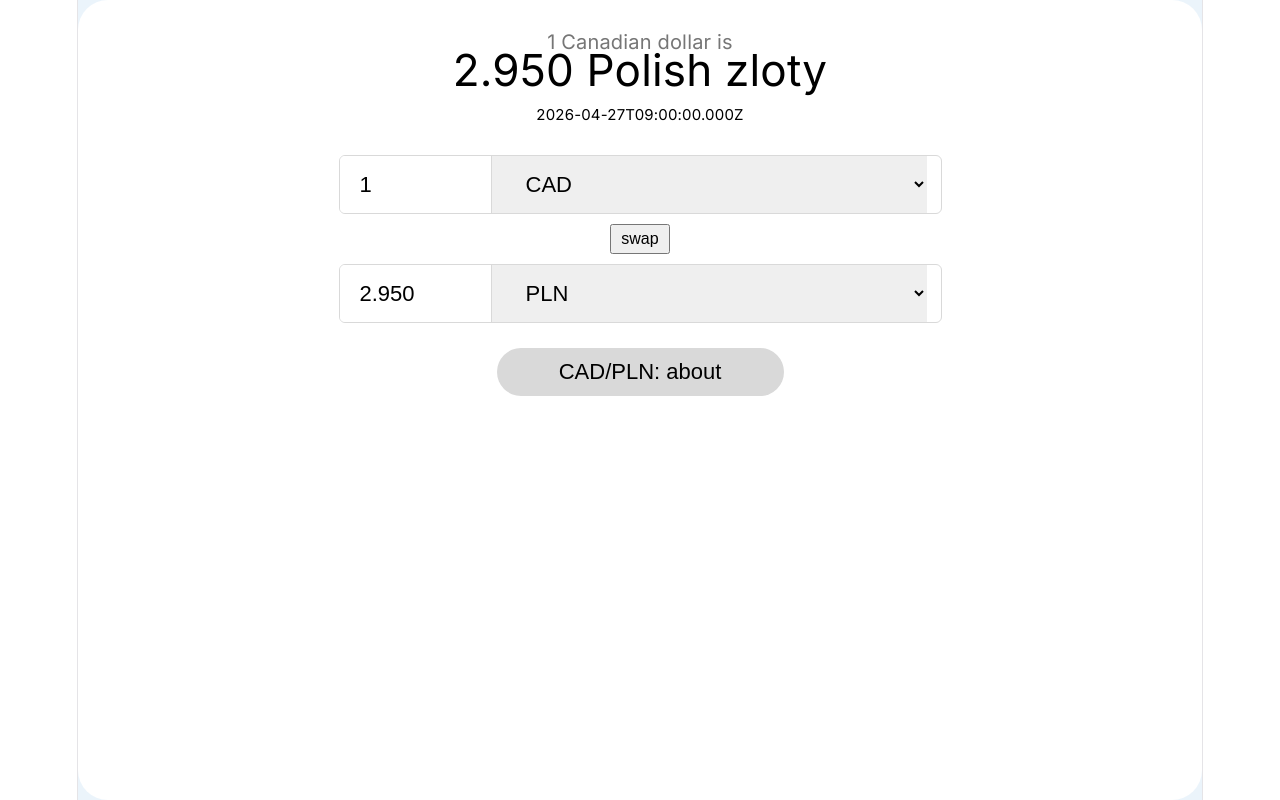
Test: App › recalculation of conversion when changing the amount/pair
Select "CAD" in the 1st dropdown at point(708, 185), box [490, 156, 926, 213]
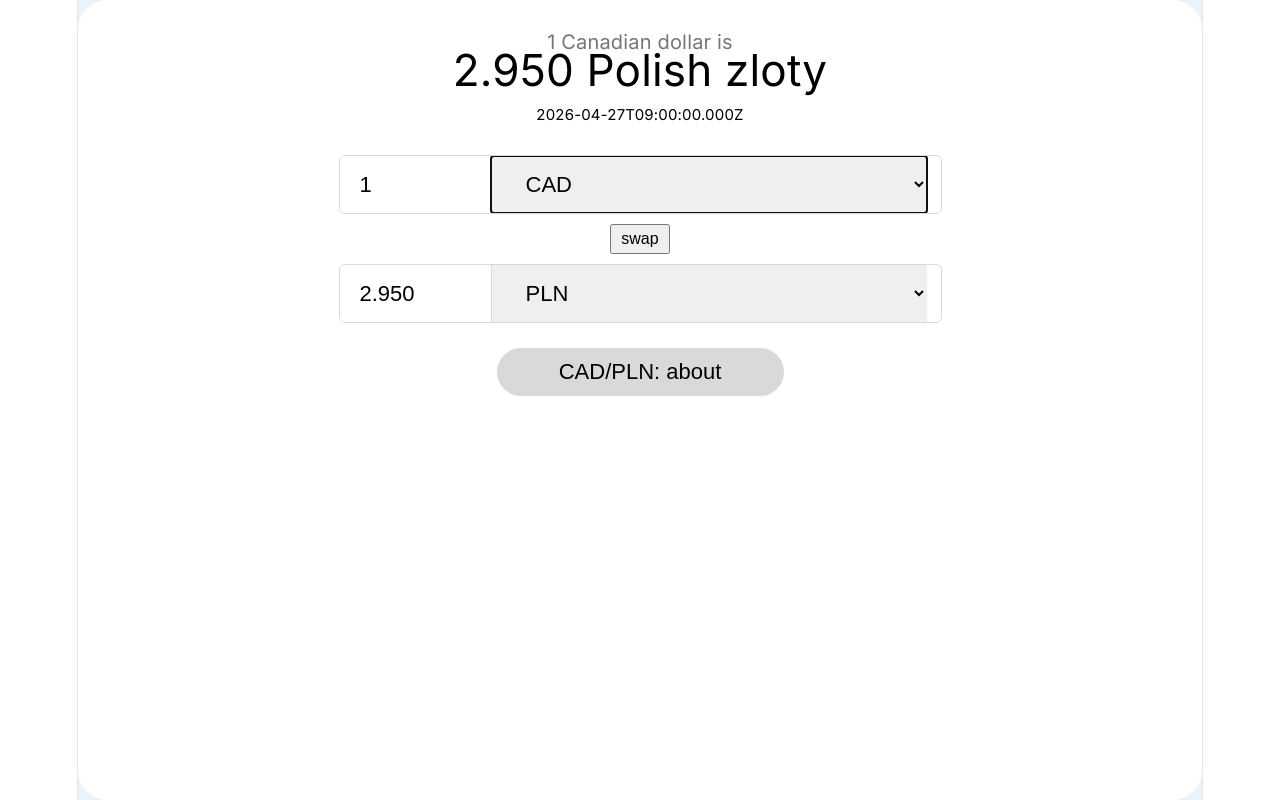
Select "PLN" in the 2nd dropdown at point(708, 294), box [490, 265, 926, 322]
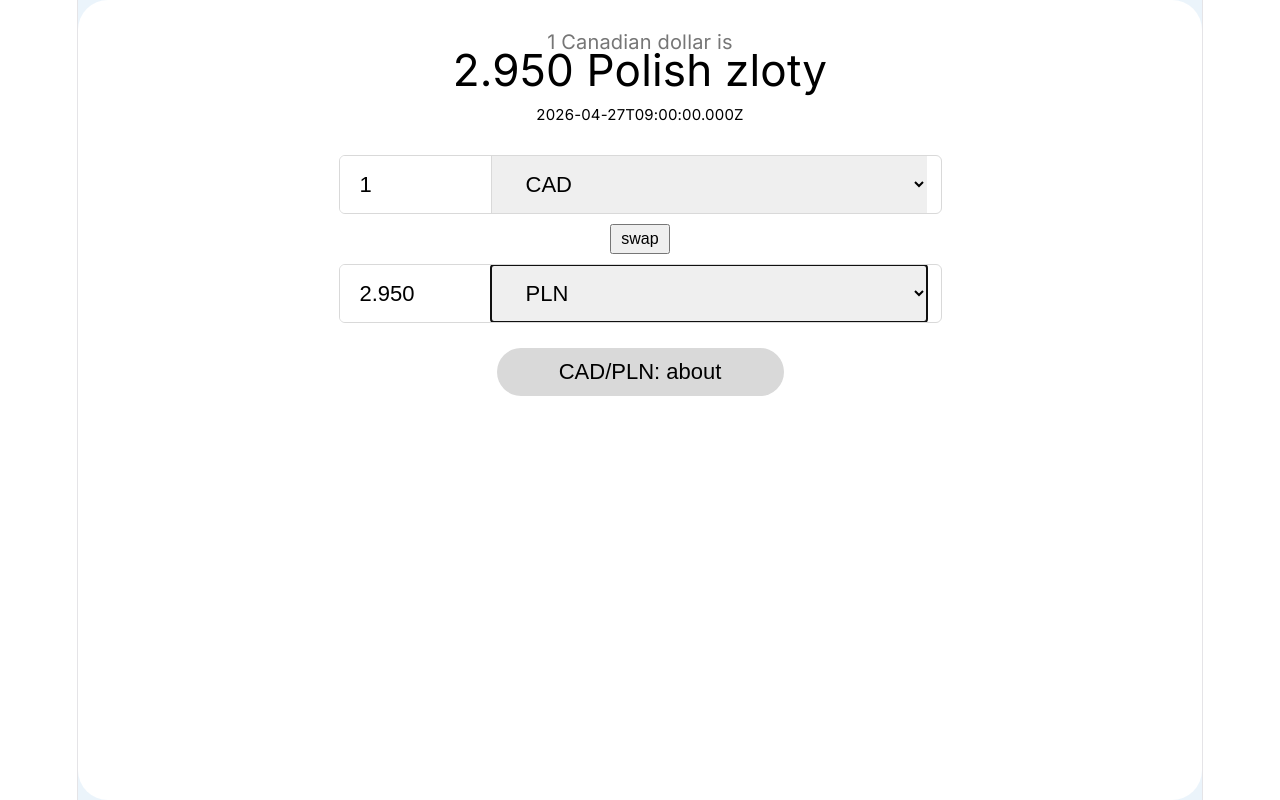
Replace the text in the 1st number field with "7.5" at point(415, 185), box [340, 156, 490, 213]
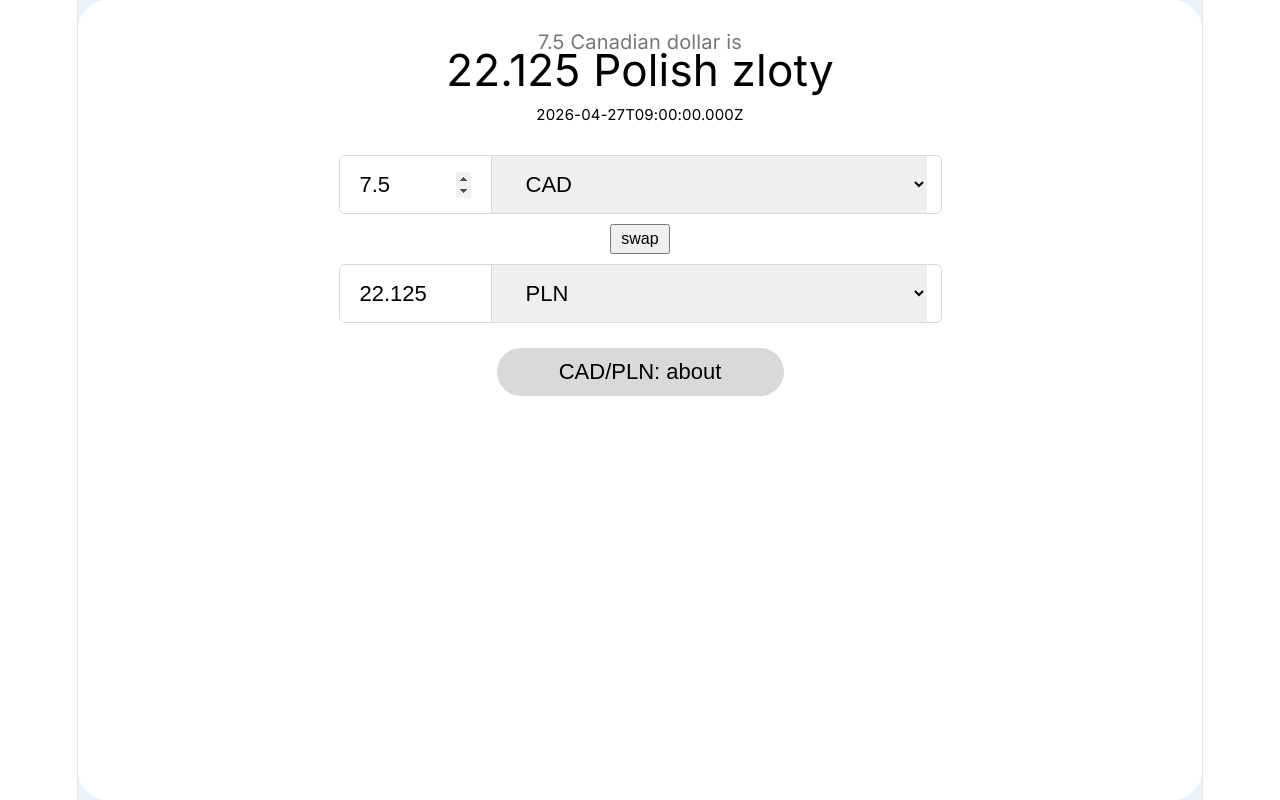
Check: the 2nd number field holds "22.125", box [340, 265, 490, 322]
